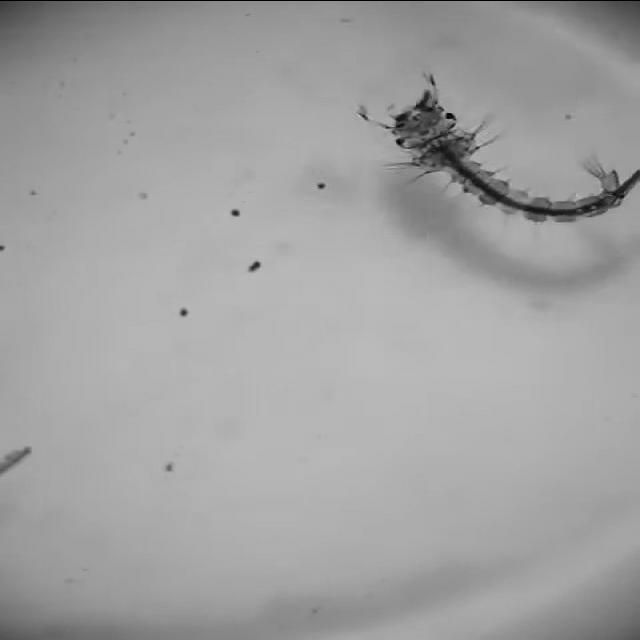larvas: (391, 95, 640, 220)
